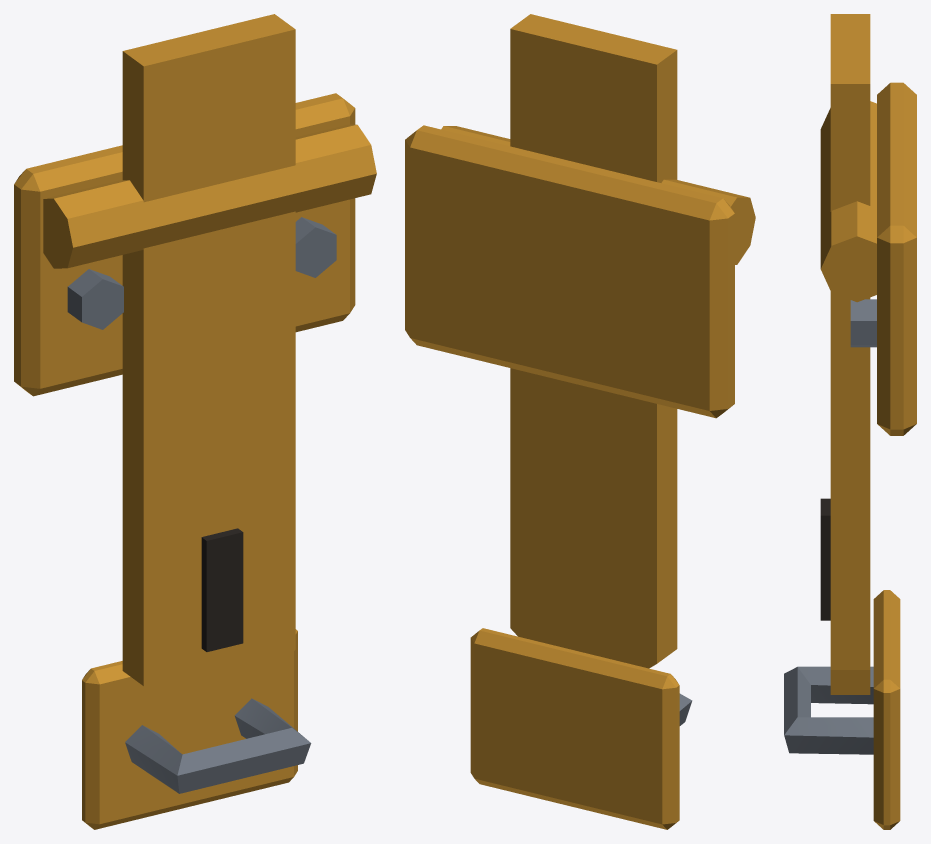
Rendered from Latch.fbx.
The picture shows the model from 3 angles, left to right: view 1: azimuth 30°, elevation 25°; view 2: azimuth 150°, elevation 25°; view 3: azimuth 270°, elevation 25°; orthographic projection. The views are drawn at different scales.
Visible parts, largest first — view 1: Hasp, Plate; view 2: Plate, Hasp; view 3: Plate, Hasp.
Boxes of the visible parts, left/top/right/bottom form: Hasp: left=122, top=14, right=295, bottom=731; Plate: left=14, top=93, right=376, bottom=829; Plate: left=405, top=125, right=755, bottom=829; Hasp: left=510, top=14, right=677, bottom=668; Plate: left=784, top=82, right=916, bottom=829; Hasp: left=820, top=14, right=870, bottom=694.
Bounding box in the file's own units: 0.22 × 0.49 × 0.0801.
